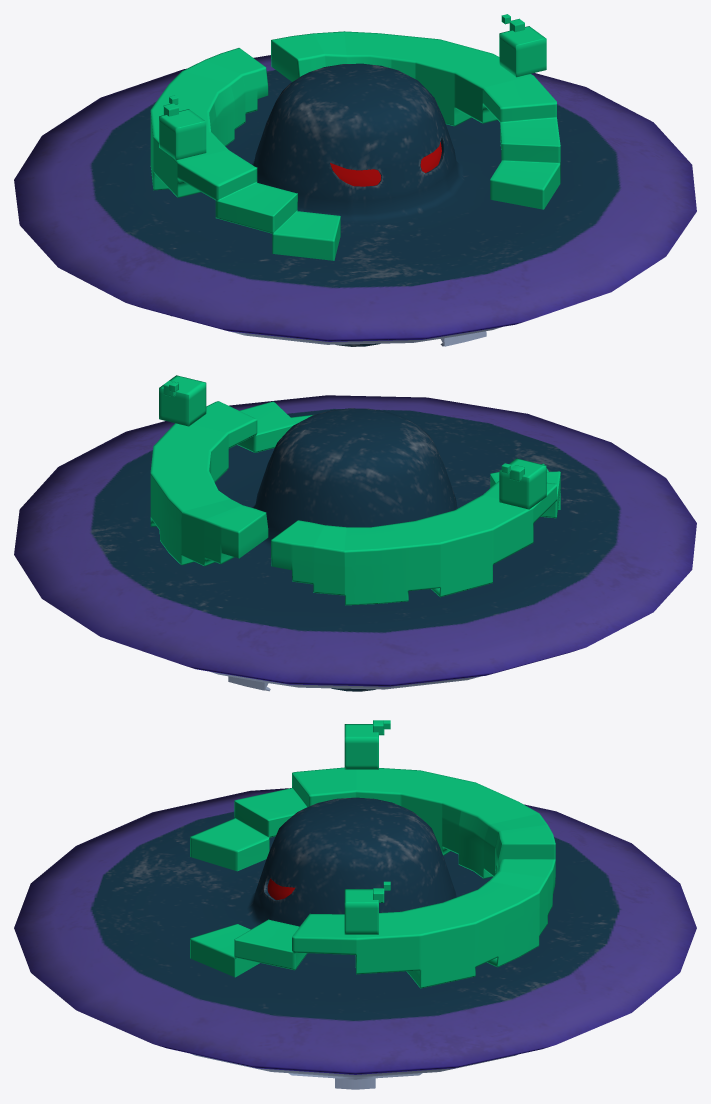
File: UFO.fbx
3 views of the same model, one above another, from view 1: azimuth 30°, elevation 25°; view 2: azimuth 150°, elevation 25°; view 3: azimuth 270°, elevation 25° (orthographic).
Visible parts, largest first — view 1: polySurface19, shitakarada; view 2: polySurface19, shitakarada; view 3: polySurface19, shitakarada.
Part boxes in pixels (x1=…): polySurface19: x1=14, y1=14, x2=696, y2=341; shitakarada: x1=170, y1=315, x2=501, y2=346; polySurface19: x1=14, y1=375, x2=696, y2=686; shitakarada: x1=210, y1=660, x2=540, y2=691; polySurface19: x1=14, y1=720, x2=696, y2=1074; shitakarada: x1=192, y1=1054, x2=517, y2=1089.
Size of the model in its own units: 163 by 68.1 by 163.
Materials: 4 (1 with a texture image).
